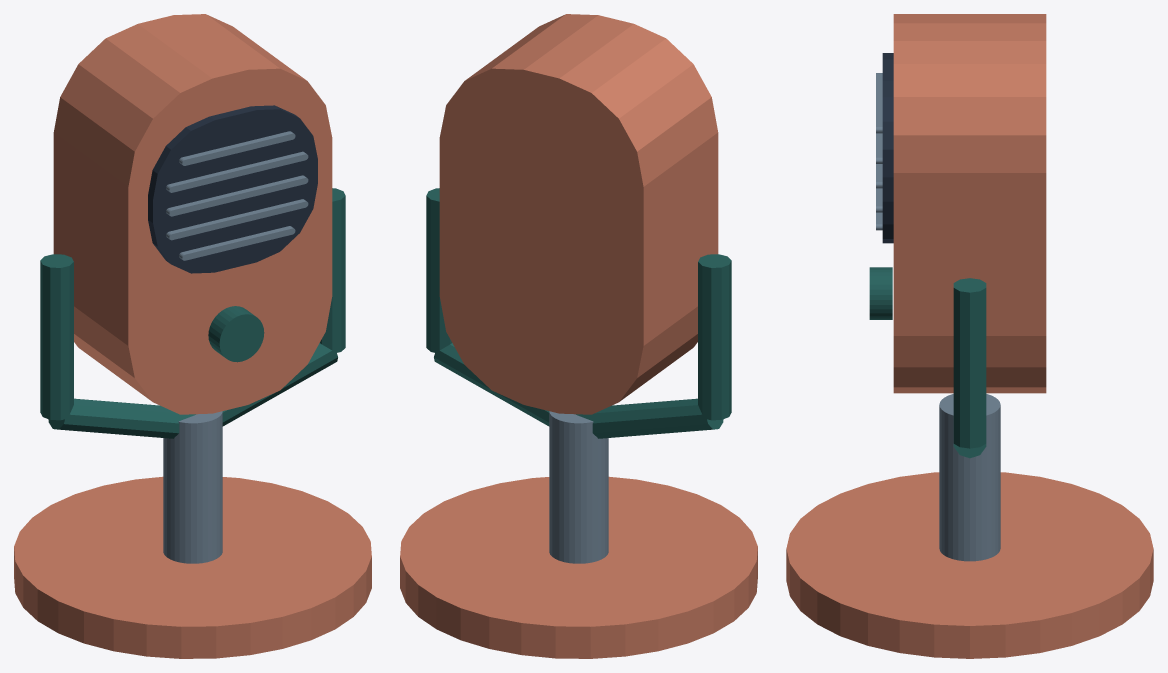
Rendered from mic.glb.
3 renders of one model, left to right at view 1: azimuth 30°, elevation 25°; view 2: azimuth 150°, elevation 25°; view 3: azimuth 270°, elevation 25°, orthographic. The views are drawn at different scales.
Visible parts, largest first — view 1: capsule, base, grille, stand, yoke0, yoke1, yoke3, mute key, mesh bar 3, mesh bar 1, mesh bar 2, yoke2 (+2 smaller); view 2: capsule, base, stand, yoke0, yoke1, yoke3, yoke2; view 3: capsule, base, stand, yoke3, grille, mute key.
Boxes of the visible parts, bbox=[...] form: capsule: bbox=[53, 14, 332, 414]; base: bbox=[14, 476, 371, 658]; grille: bbox=[148, 105, 317, 273]; stand: bbox=[163, 411, 222, 563]; yoke0: bbox=[40, 254, 73, 420]; yoke1: bbox=[48, 398, 195, 438]; yoke3: bbox=[320, 188, 345, 352]; mute key: bbox=[208, 306, 264, 362]; mesh bar 3: bbox=[166, 151, 308, 192]; mesh bar 1: bbox=[166, 199, 308, 240]; mesh bar 2: bbox=[166, 175, 308, 216]; yoke2: bbox=[222, 343, 337, 426]; capsule: bbox=[439, 14, 718, 414]; base: bbox=[400, 476, 757, 658]; stand: bbox=[549, 411, 608, 563]; yoke0: bbox=[698, 254, 731, 420]; yoke1: bbox=[576, 398, 723, 438]; yoke3: bbox=[426, 188, 451, 352]; yoke2: bbox=[434, 343, 549, 426]; capsule: bbox=[893, 14, 1046, 393]; base: bbox=[786, 472, 1153, 658]; stand: bbox=[939, 394, 1000, 561]; yoke3: bbox=[953, 278, 986, 448]; grille: bbox=[882, 53, 893, 243]; mute key: bbox=[869, 267, 892, 319].
Size of the model in its own units: 0.96 by 1.59 by 0.96.
